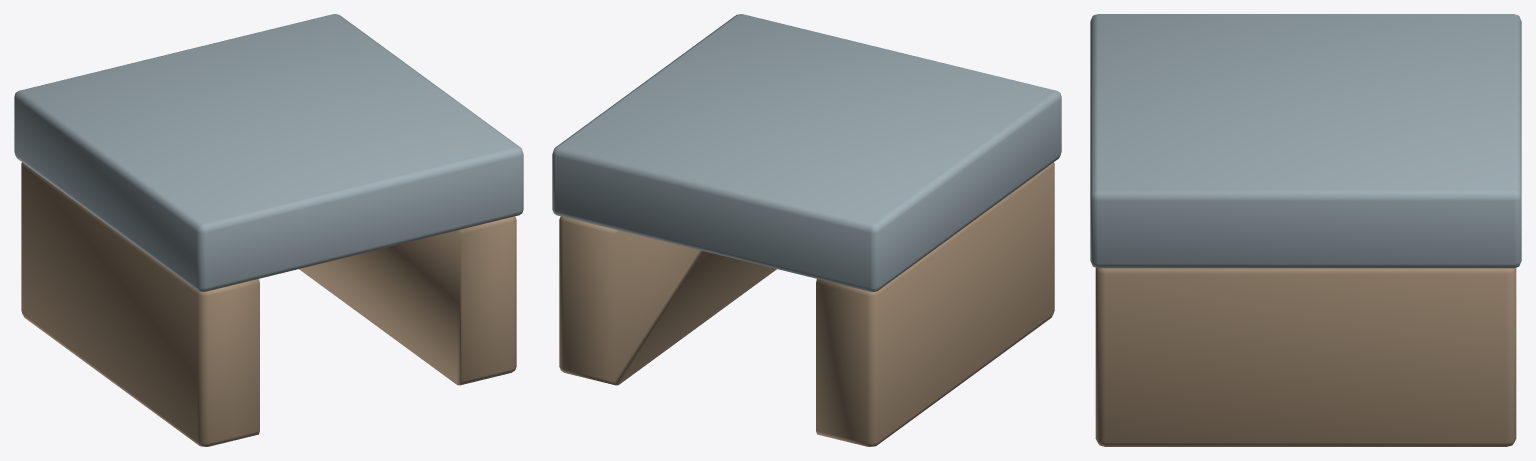
File: NormalTable.fbx
3 views of the same model, side by side, from view 1: azimuth 30°, elevation 25°; view 2: azimuth 150°, elevation 25°; view 3: azimuth 270°, elevation 25° (orthographic). The views are drawn at different scales.
Parts seen in each view (by area): view 1: NormalTable; view 2: NormalTable; view 3: NormalTable.
Part boxes in pixels (x1,y1,x2,y2): NormalTable: (14, 14, 523, 446); NormalTable: (552, 14, 1061, 446); NormalTable: (1090, 14, 1521, 446).
Bounding box in the file's own units: 1 × 0.664 × 1.
